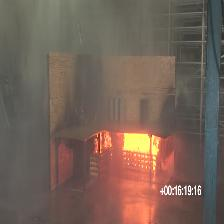fire: (125, 135, 163, 158)
